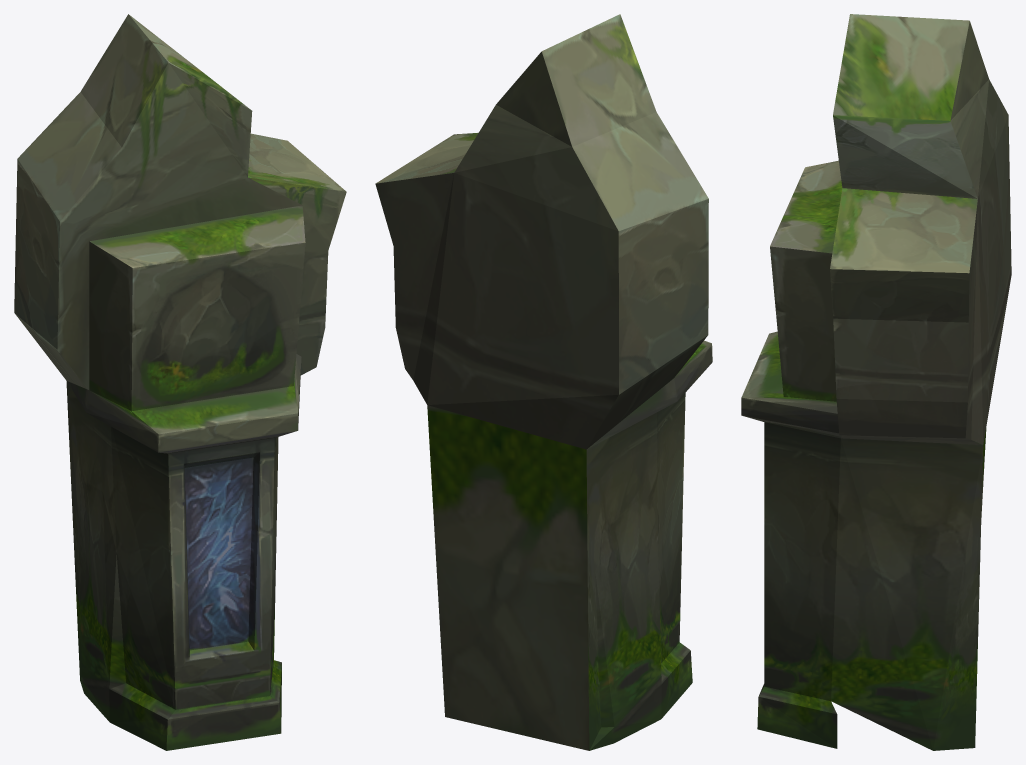
Rendered from fb_lyhg_zj_01_o.FBX.
3 views of the same model, side by side, from view 1: azimuth 30°, elevation 25°; view 2: azimuth 150°, elevation 25°; view 3: azimuth 270°, elevation 25° (orthographic). The views are drawn at different scales.
Parts seen in each view (by area): view 1: Object010; view 2: Object010; view 3: Object010.
Part boxes in pixels (x1,y1,x2,y2): Object010: (14, 14, 346, 750); Object010: (375, 14, 712, 750); Object010: (741, 14, 1011, 750).
Bounding box in the file's own units: 738 × 1689 × 606.
